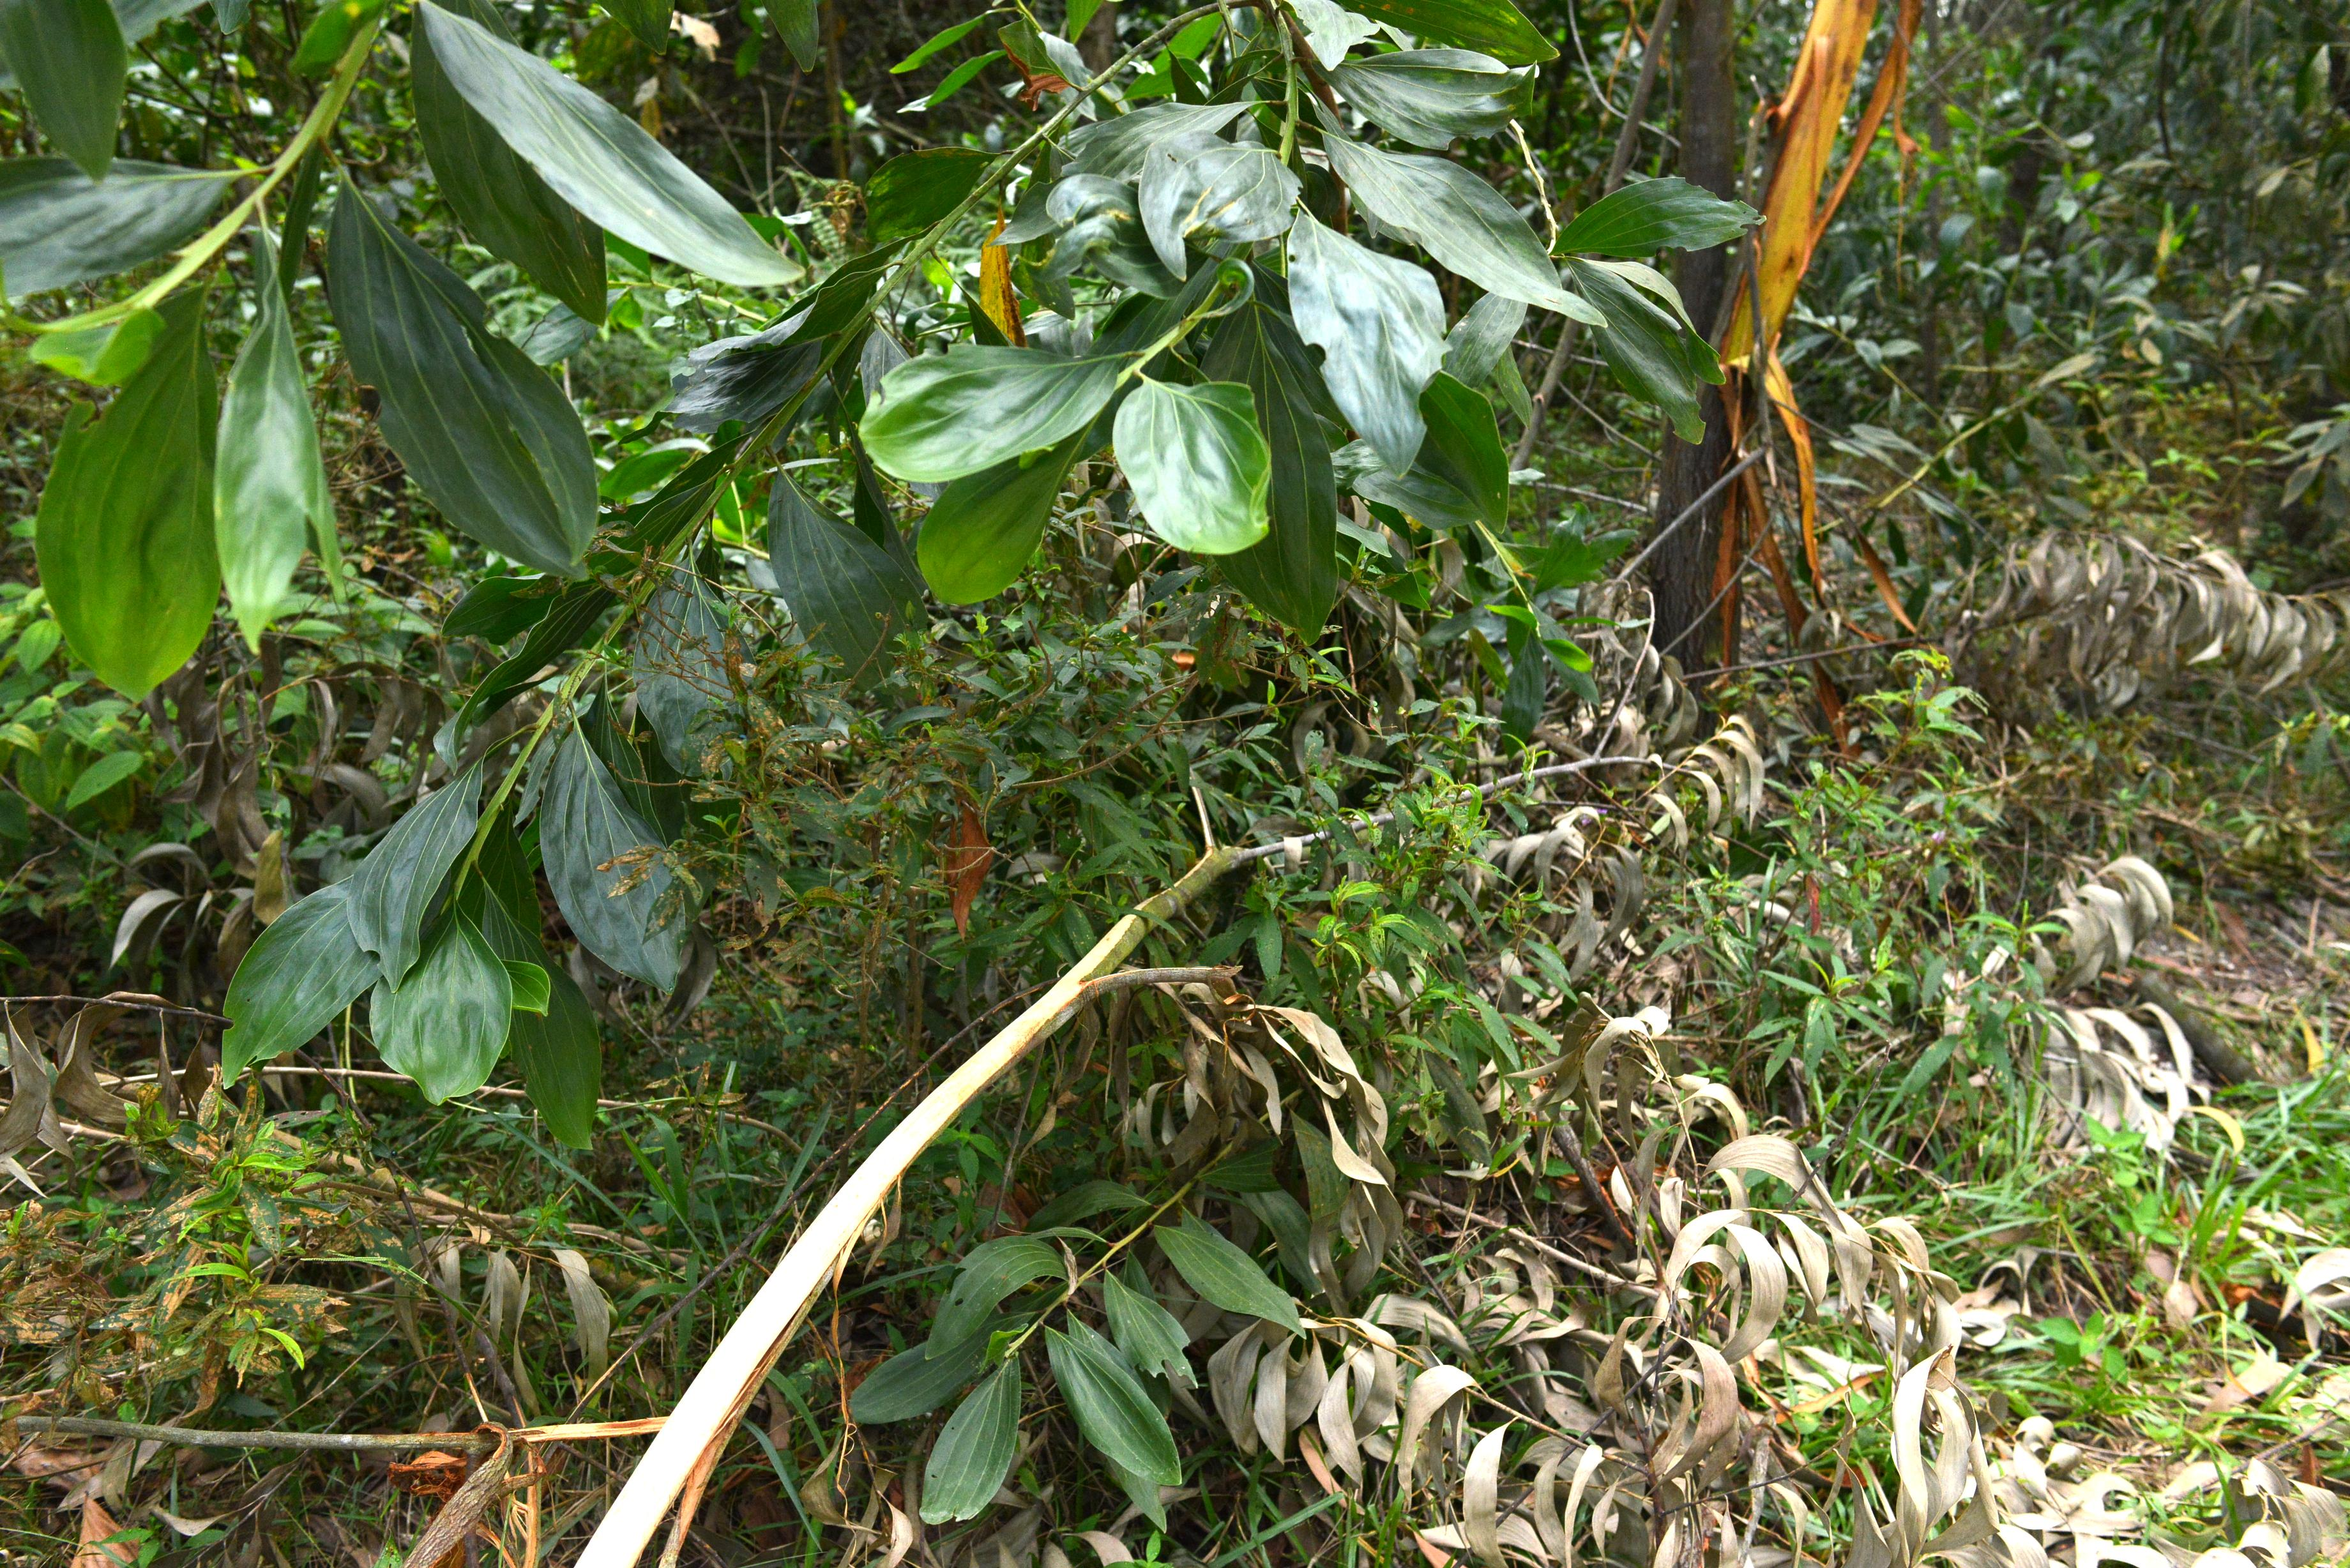Mammals Attack: (576, 840, 1246, 1568), (1703, 0, 1907, 409)
